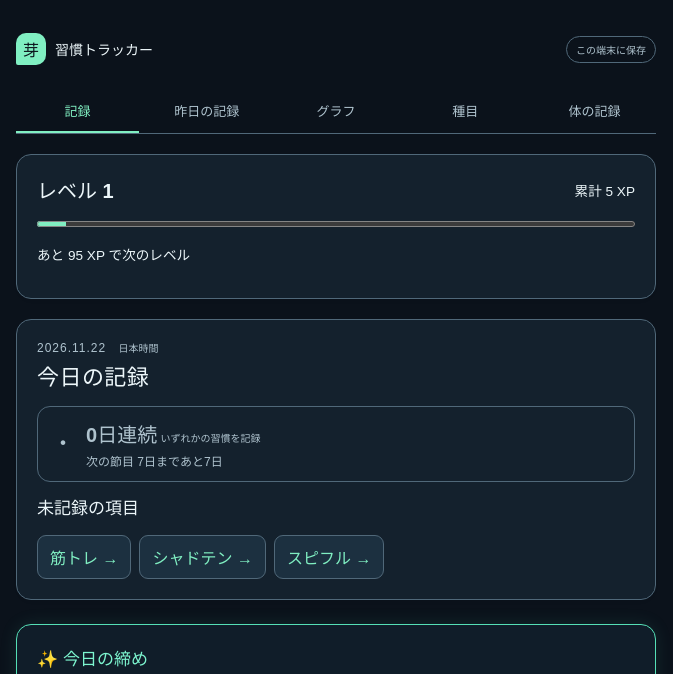
body tab › removes an existing record when both fields are cleared and saved
Click the button with test id "nav-body" at coordinates (594, 111), box [533, 89, 656, 133]
(page scrolled)
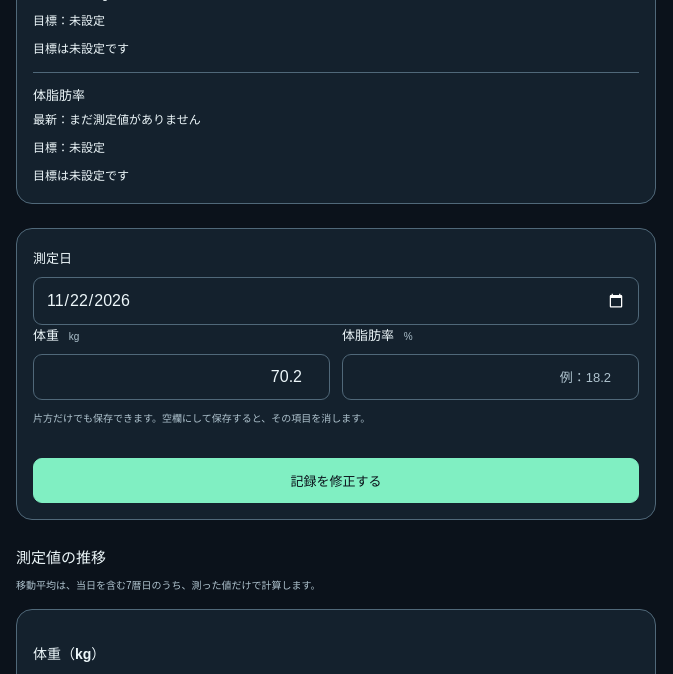
Clear the number field with test id "body-weight-input" at coordinates (182, 377), box [33, 354, 330, 400]
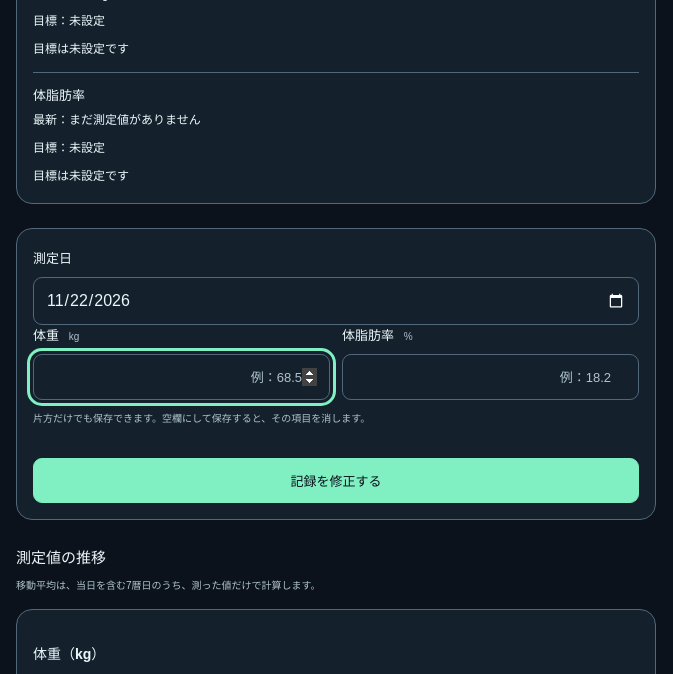
Check: the button with test id "body-save-button" is enabled
Click the button with test id "body-save-button" at coordinates (336, 481), box [33, 458, 639, 503]
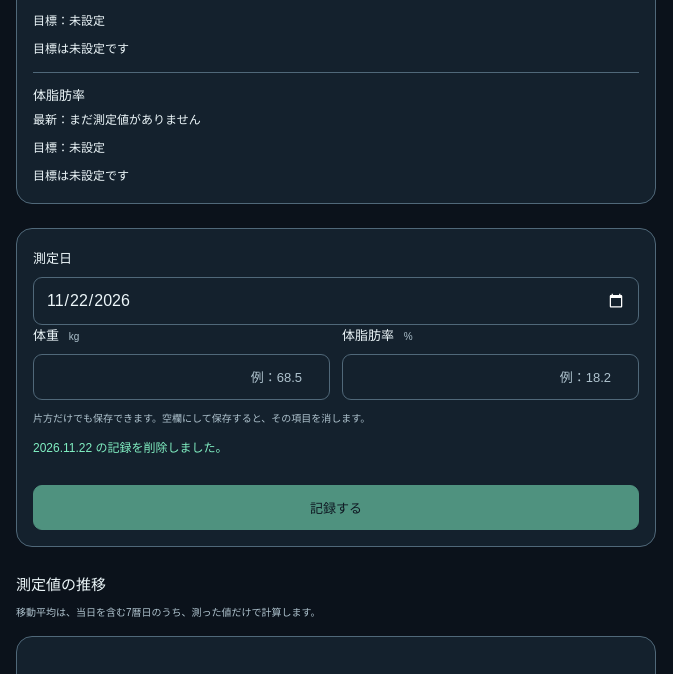
Check: the message shows "記録を削除しました", box [33, 441, 228, 455]
Check: the button with test id "body-save-button" is disabled, box [33, 485, 639, 530]
